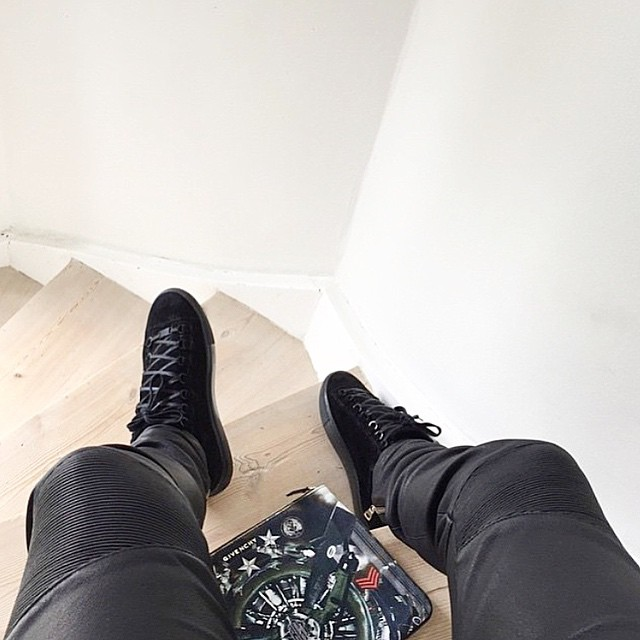sneaker: (109, 276, 248, 506), (308, 341, 444, 542)
